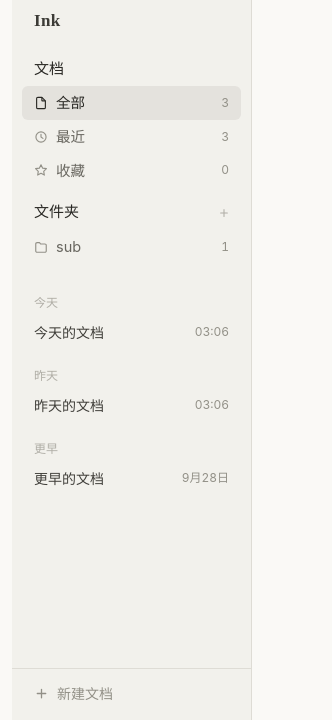
Sidebar（spec W2） › 有子文件夹时列出「文件夹」：点一个只看它里面的文档，回到全部恢复
Expected: the text with class "ink-nav-count" reads "1", [221,239,229,254]
Click the button titled "sub/" at (132, 247), box [22,230,241,264]
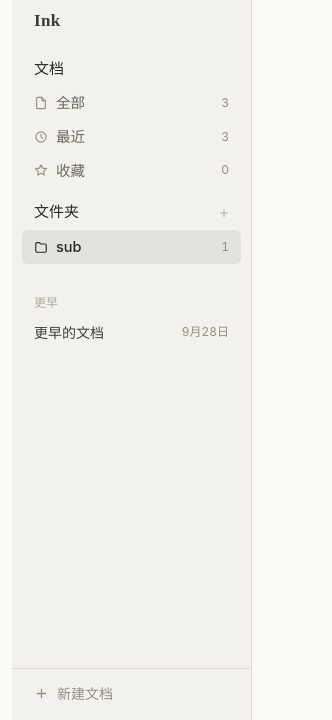
Expected: the text "更早的文档" is shown, [34,324,104,340]
Now the text "今天的文档" is gone
Click the button "全部 3" at (132, 103), box [22,86,241,120]
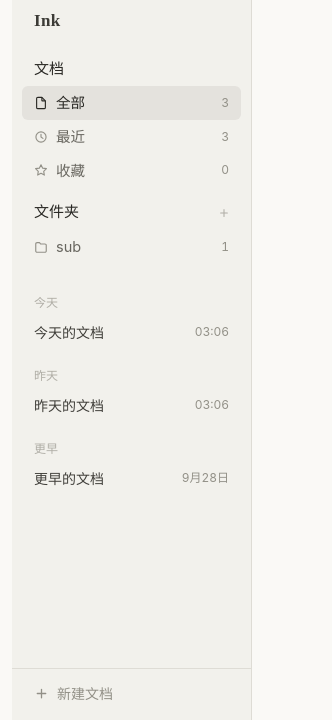
Now the text "今天的文档" is shown, box [34,324,104,340]
